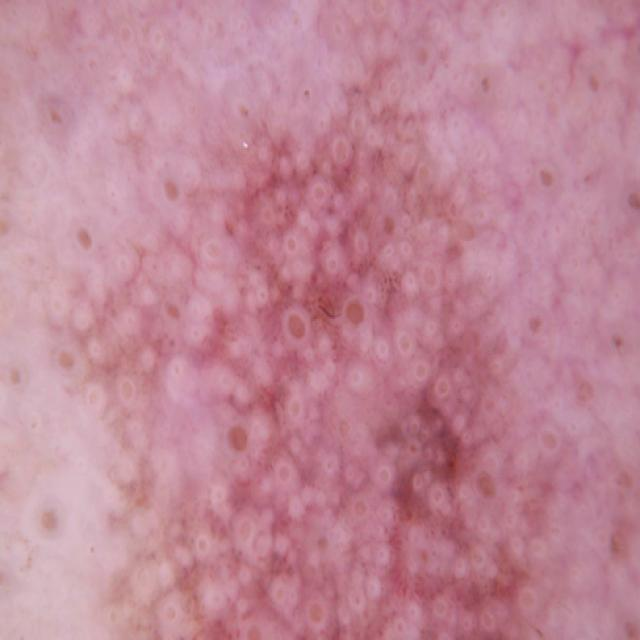Melanoma: (61, 169, 567, 640)
